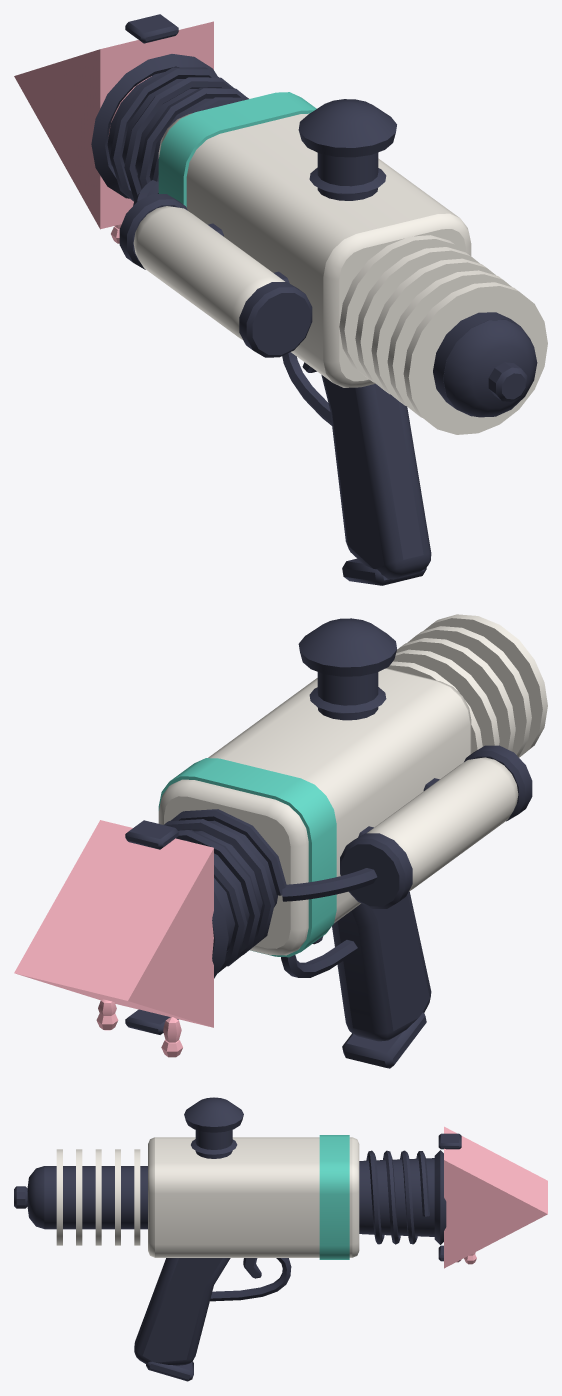
File: weapon_prism_beam_prop.glb
The picture shows the model from 3 angles, top to bottom: view 1: azimuth 30°, elevation 25°; view 2: azimuth 150°, elevation 25°; view 3: azimuth 270°, elevation 25°; orthographic projection. The views are drawn at different scales.
Parts seen in each view (by area): view 1: PrismBeamMesh; view 2: PrismBeamMesh; view 3: PrismBeamMesh.
Boxes of the visible parts, left/top/right/bottom form: PrismBeamMesh: left=14, top=14, right=547, bottom=585; PrismBeamMesh: left=14, top=614, right=547, bottom=1068; PrismBeamMesh: left=14, top=1097, right=547, bottom=1381.
Bounding box in the file's own units: 0.1733 × 0.3429 × 0.606.
